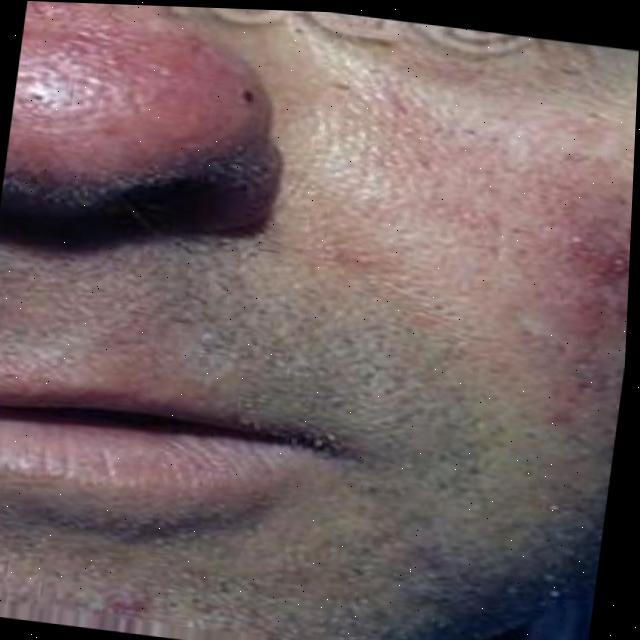Rosacea: (545, 214, 631, 313)
